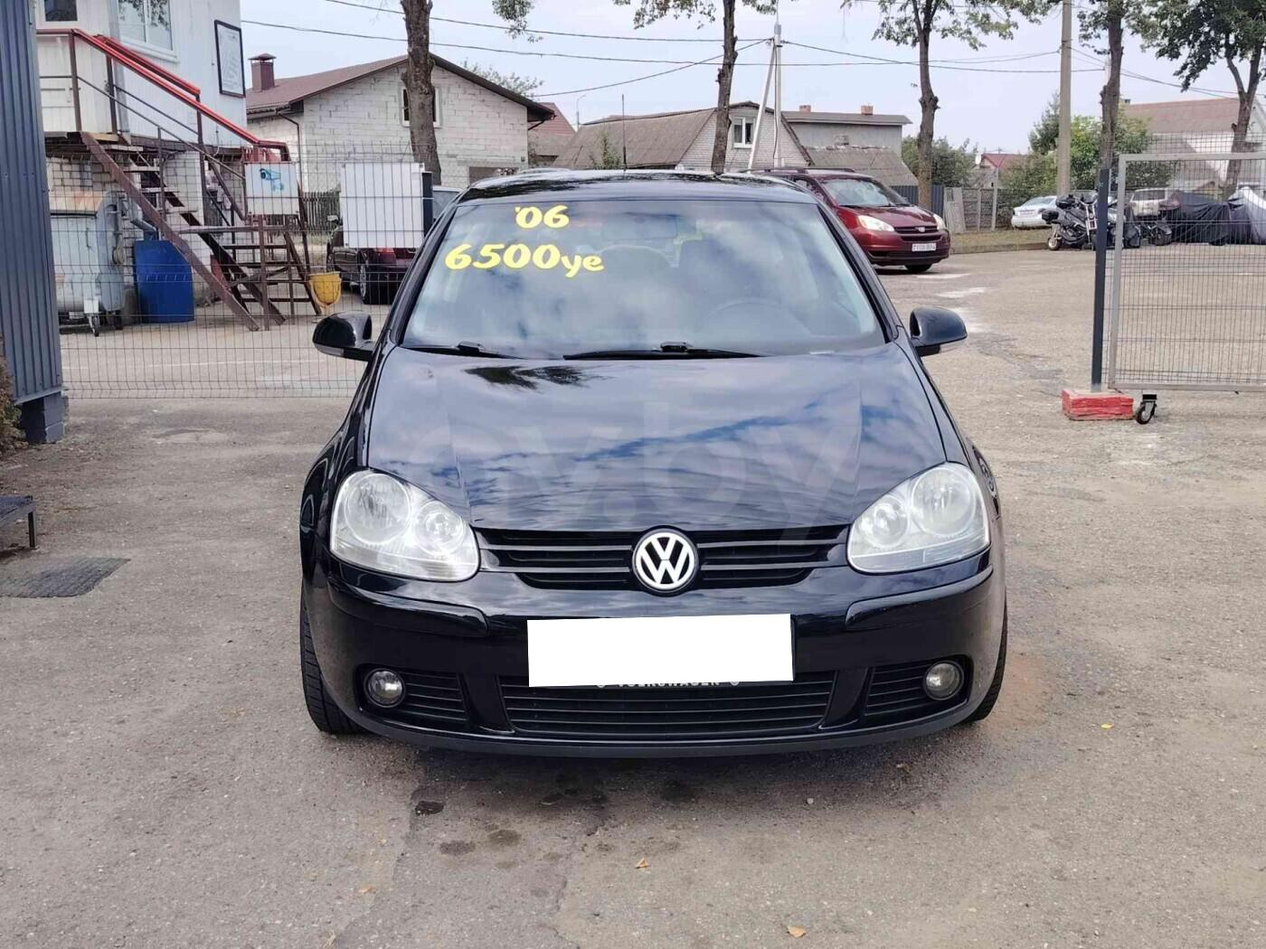Golf_2003-2009: (291, 158, 1018, 760)
